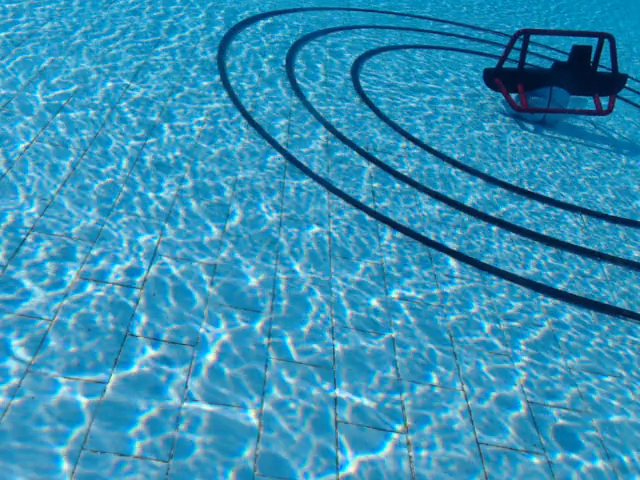submarine: (482, 27, 631, 117)
